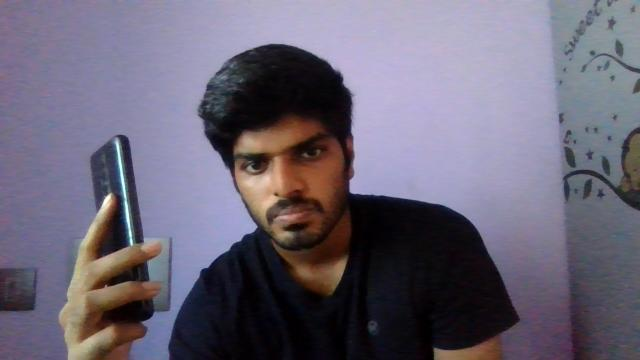PhoneUse: (86, 132, 156, 322)
SafeDriving: (290, 135, 332, 166), (234, 152, 274, 178)
